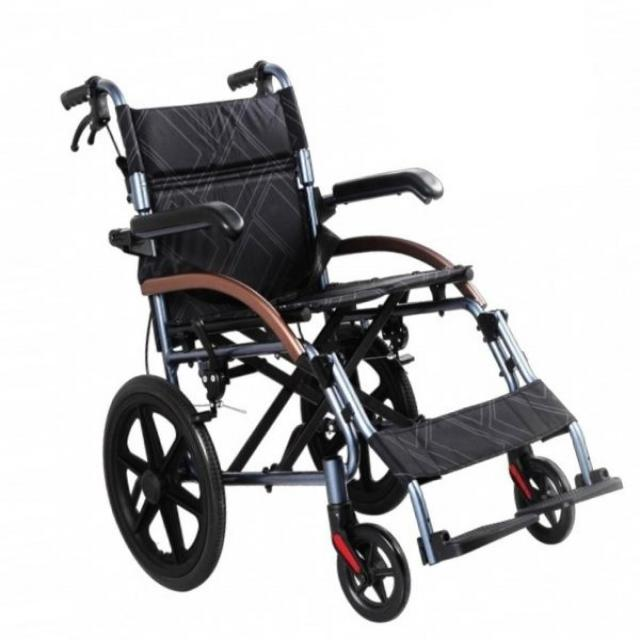wheelchair: (56, 53, 626, 624)
